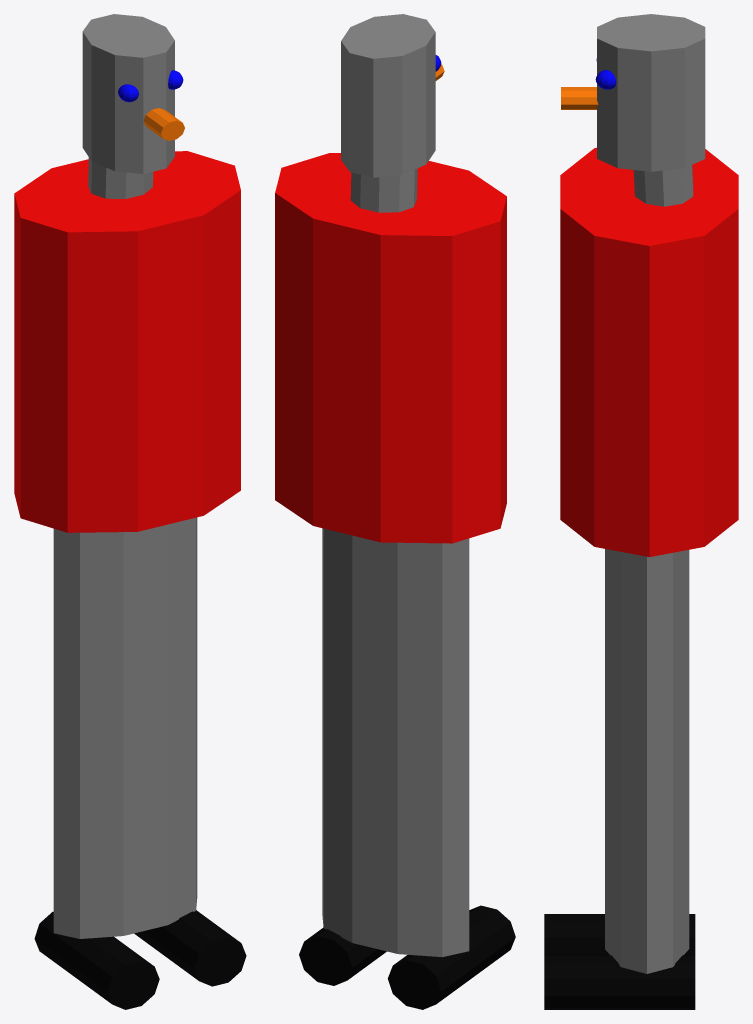
Rendered from redHuman.fbx.
3 views of the same model, side by side, from view 1: azimuth 30°, elevation 25°; view 2: azimuth 150°, elevation 25°; view 3: azimuth 270°, elevation 25° (orthographic). The views are drawn at different scales.
Parts seen in each view (by area): view 1: Mesh05, Mesh04, Mesh03, Mesh02, Mesh01; view 2: Mesh05, Mesh04, Mesh03; view 3: Mesh05, Mesh04, Mesh03, Mesh02.
Boxes of the visible parts, x1,y1,x2,y2 form: Mesh05: (14, 151, 240, 532); Mesh04: (53, 14, 197, 938); Mesh03: (34, 910, 246, 1009); Mesh02: (143, 108, 184, 140); Mesh01: (118, 70, 183, 102); Mesh05: (275, 153, 506, 543); Mesh04: (322, 14, 469, 957); Mesh03: (299, 905, 515, 1009); Mesh05: (560, 147, 738, 556); Mesh04: (597, 14, 705, 973); Mesh03: (544, 914, 695, 1009); Mesh02: (561, 87, 598, 109).
Size of the model in its own units: 70.03 by 288 by 53.18.
